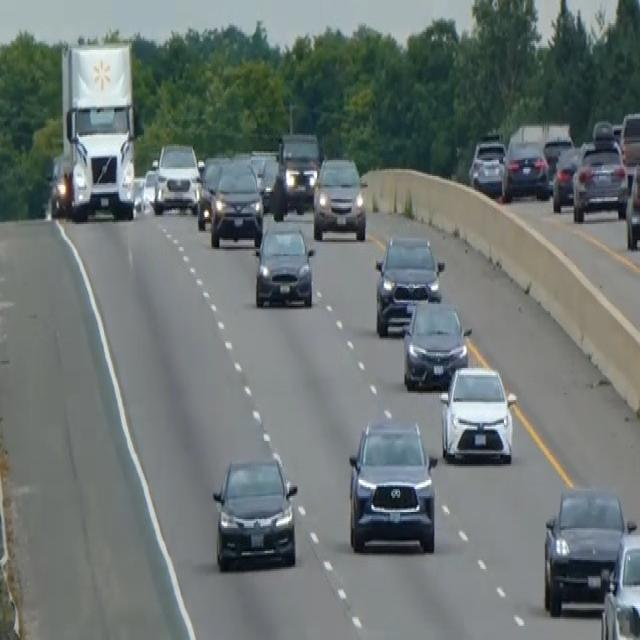car: (542, 484, 630, 615), (211, 453, 298, 571), (438, 363, 517, 464), (374, 231, 443, 336), (402, 297, 471, 389), (253, 220, 315, 310), (209, 158, 264, 249), (571, 137, 629, 222), (312, 154, 367, 242), (600, 524, 639, 638), (274, 130, 321, 212), (153, 140, 200, 213), (502, 139, 550, 201), (195, 153, 229, 229), (468, 135, 506, 196), (551, 146, 579, 212), (543, 133, 573, 187), (48, 151, 71, 217), (257, 153, 280, 211), (625, 158, 639, 249), (620, 110, 639, 166), (142, 166, 157, 204), (132, 174, 146, 212)
jeep: (345, 412, 438, 556)
lorry: (51, 38, 141, 220)
